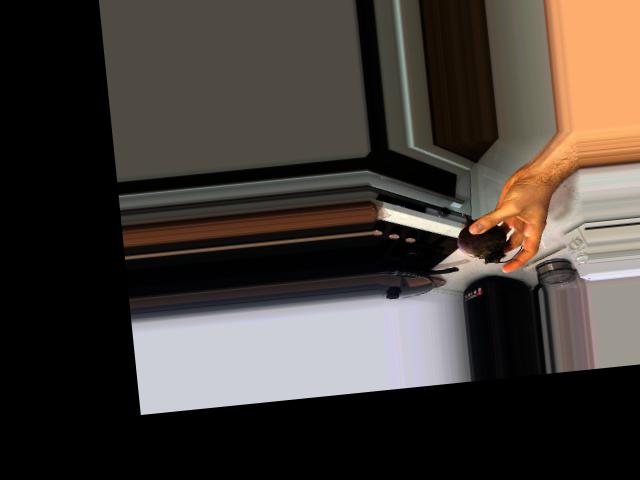beet: (454, 207, 522, 266)
